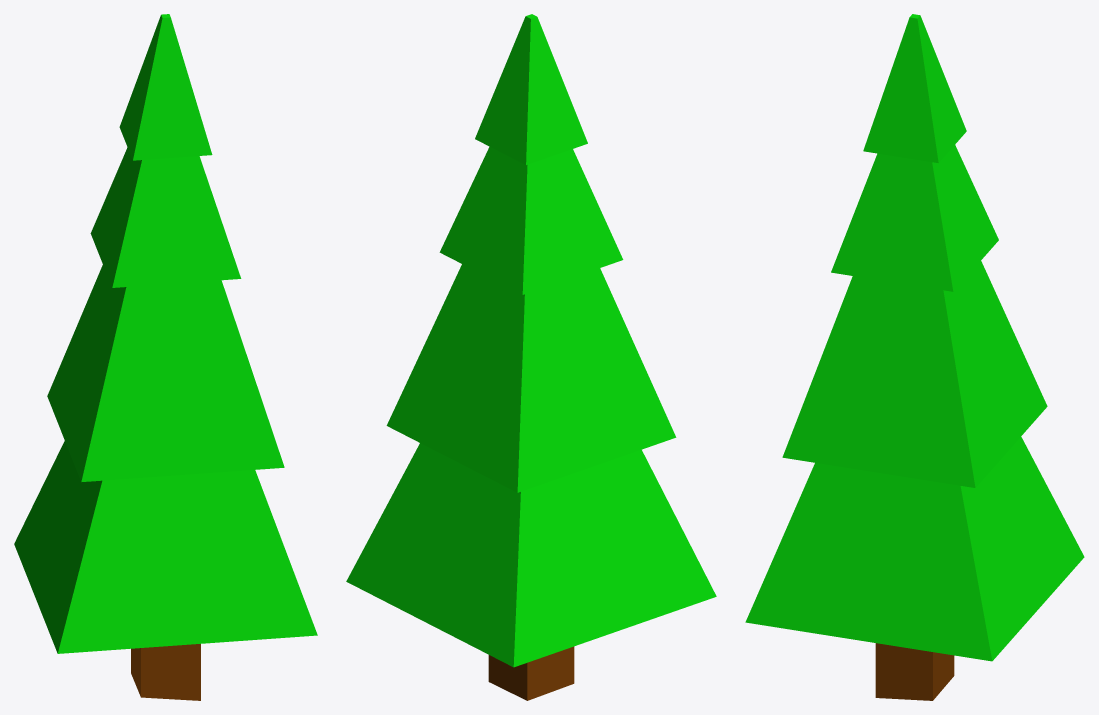
File: jelka 6.fbx
3 views of the same model, side by side, from view 1: azimuth 30°, elevation 25°; view 2: azimuth 150°, elevation 25°; view 3: azimuth 270°, elevation 25° (orthographic).
Parts seen in each view (by area): view 1: Cube.007; view 2: Cube.007; view 3: Cube.007.
Part boxes in pixels (x1,y1,x2,y2): Cube.007: [14, 14, 317, 700]; Cube.007: [346, 14, 716, 700]; Cube.007: [745, 14, 1084, 700].
Bounding box in the file's own units: 442 × 970 × 442.
